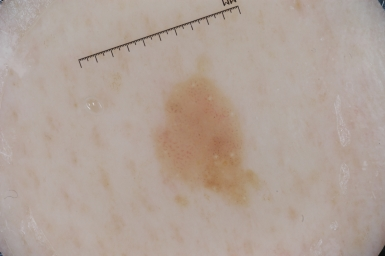seborrheic keratosis: (136, 67, 272, 216)
